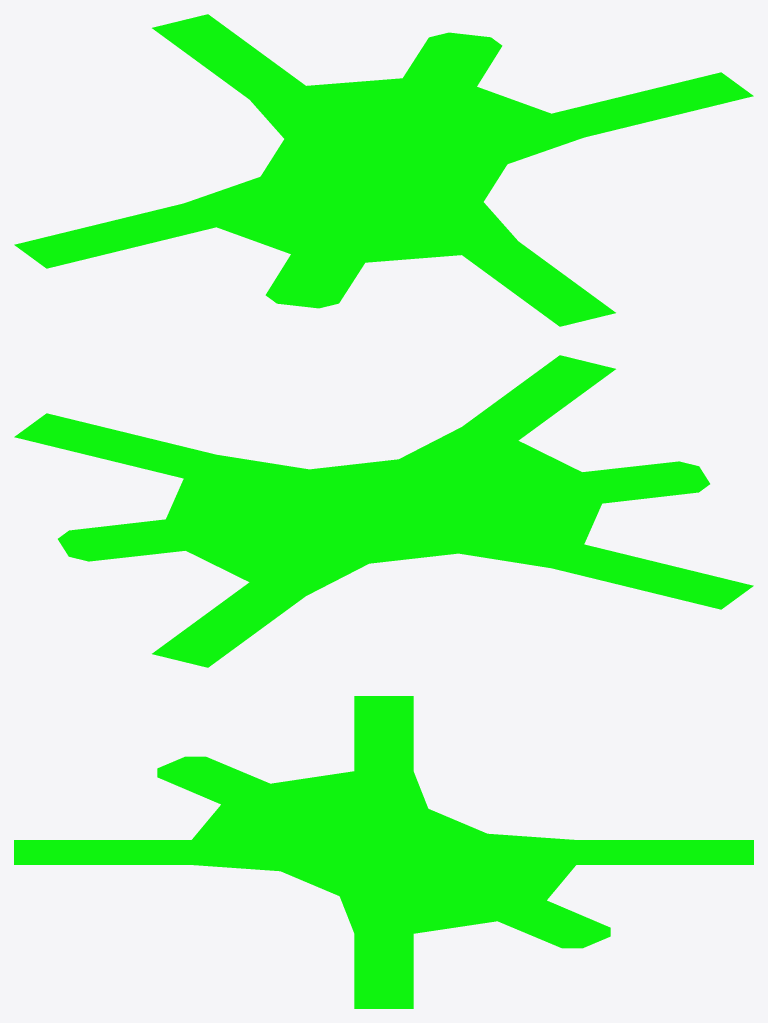
Rendered from s06b_xb2-floor.glb.
3 renders of one model, top to bottom at view 1: azimuth 30°, elevation 25°; view 2: azimuth 150°, elevation 25°; view 3: azimuth 270°, elevation 25°, orthographic. The views are drawn at different scales.
Visible parts, largest first — view 1: collision_floor-colonly; view 2: collision_floor-colonly; view 3: collision_floor-colonly.
Part boxes in pixels (x1,y1,x2,y2): collision_floor-colonly: [14, 14, 753, 326]; collision_floor-colonly: [14, 355, 753, 667]; collision_floor-colonly: [14, 696, 753, 1008].
Size of the model in its own units: 75 by 0 by 75.
